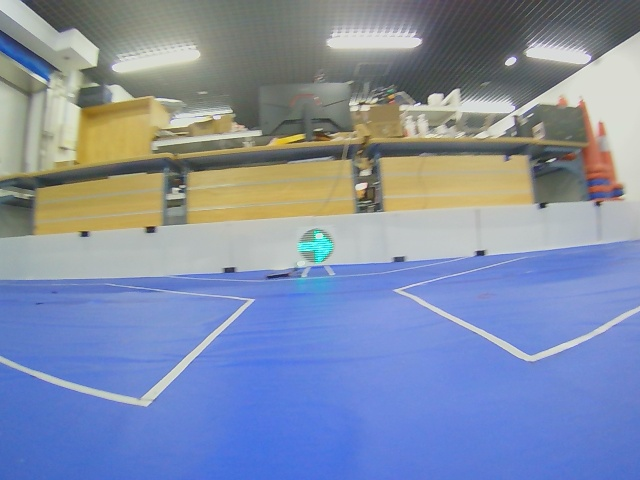right_green: (298, 228, 334, 264)
